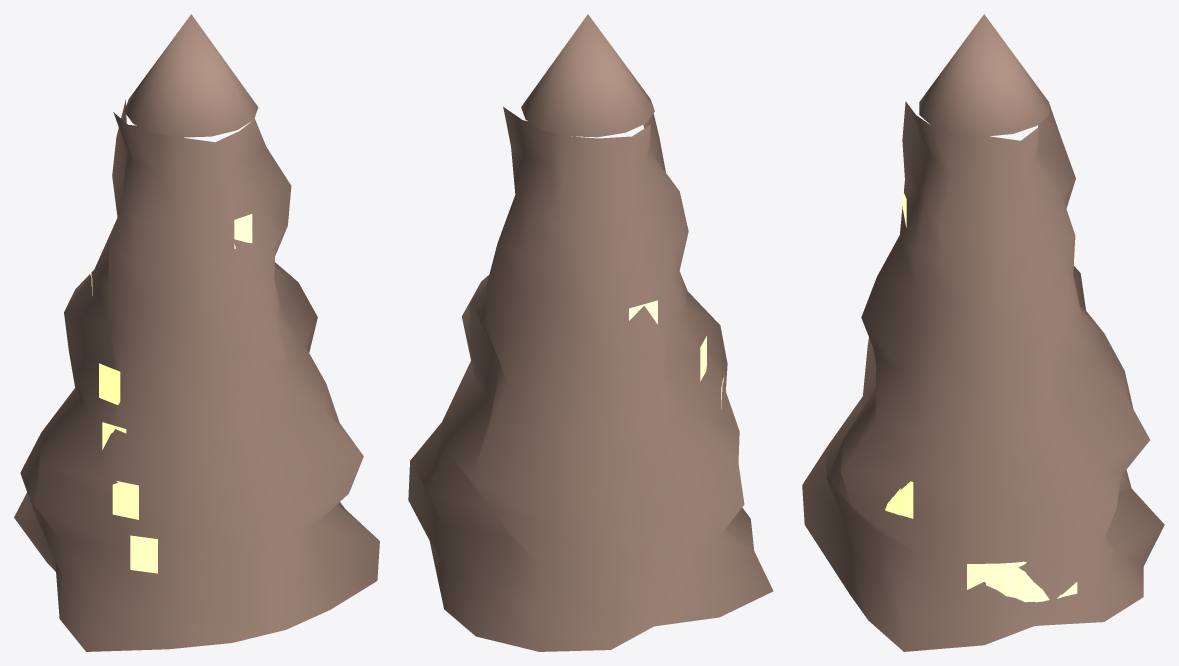
Rendered from peri-bacasi-festival.glb.
The picture shows the model from 3 angles, left to right: view 1: azimuth 30°, elevation 25°; view 2: azimuth 150°, elevation 25°; view 3: azimuth 270°, elevation 25°; orthographic projection.
Visible parts, largest first — view 1: peri-bacasi-festival; view 2: peri-bacasi-festival; view 3: peri-bacasi-festival.
Part boxes in pixels (bbox=[...]): peri-bacasi-festival: bbox=[14, 14, 379, 651]; peri-bacasi-festival: bbox=[408, 14, 773, 651]; peri-bacasi-festival: bbox=[802, 14, 1164, 651].
Bounding box in the file's own units: 6.14 × 10.8 × 6.25.
